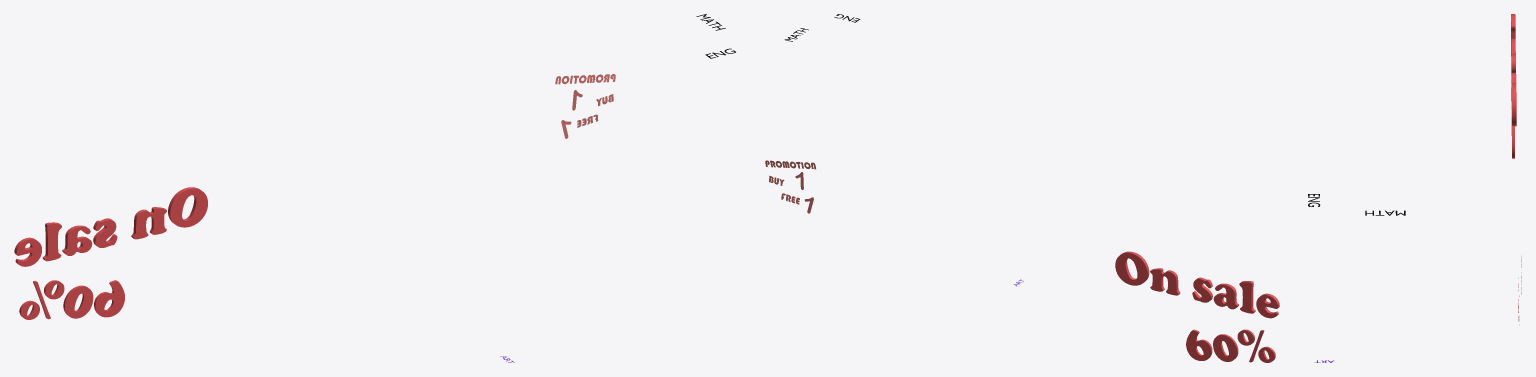
Rendered from Taxt2.glb.
3 views of the same model, side by side, from view 1: azimuth 30°, elevation 25°; view 2: azimuth 150°, elevation 25°; view 3: azimuth 270°, elevation 25° (orthographic). The views are drawn at different scales.
Visible parts, largest first — view 1: Text.020, Text.021; view 2: Text.020, Text.021; view 3: Text.020.
Boxes of the visible parts, x1,y1,x2,y2 form: Text.020: (14, 187, 207, 266); Text.021: (19, 280, 124, 319); Text.020: (1115, 251, 1279, 318); Text.021: (1186, 329, 1275, 362); Text.020: (1511, 14, 1516, 126).
Size of the model in its own units: 20.36 by 7.89 by 5.76.
